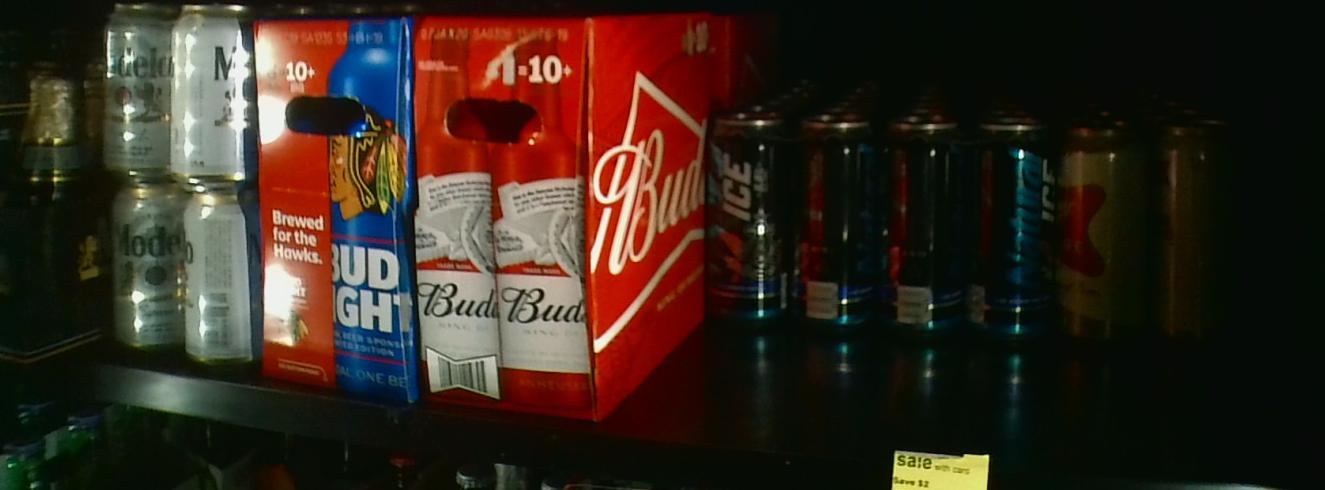bottle: (408, 3, 607, 425), (246, 15, 422, 397), (94, 5, 248, 365), (682, 102, 877, 333), (1055, 106, 1239, 348), (883, 105, 1046, 349)
